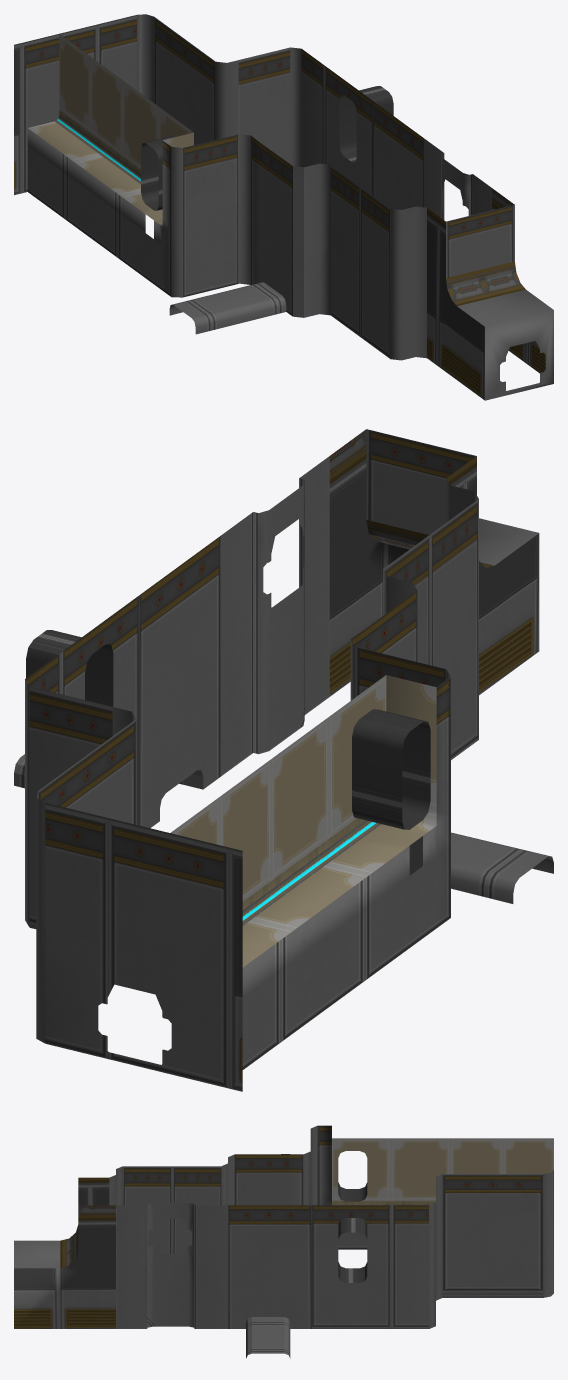
File: walls.obj
3 renders of one model, top to bottom at view 1: azimuth 30°, elevation 25°; view 2: azimuth 150°, elevation 25°; view 3: azimuth 270°, elevation 25°, orthographic. The views are drawn at different scales.
Visible parts, largest first — view 1: WALLS corroridor_4; view 2: WALLS corroridor_4; view 3: WALLS corroridor_4.
Part boxes in pixels (box(x1,y1,x2,y2)): WALLS corroridor_4: box(14, 14, 553, 400); WALLS corroridor_4: box(14, 429, 553, 1091); WALLS corroridor_4: box(14, 1125, 553, 1358).
Bounding box in the file's own units: 62.01 × 28.8 × 114.
1 material, 1 textured.
